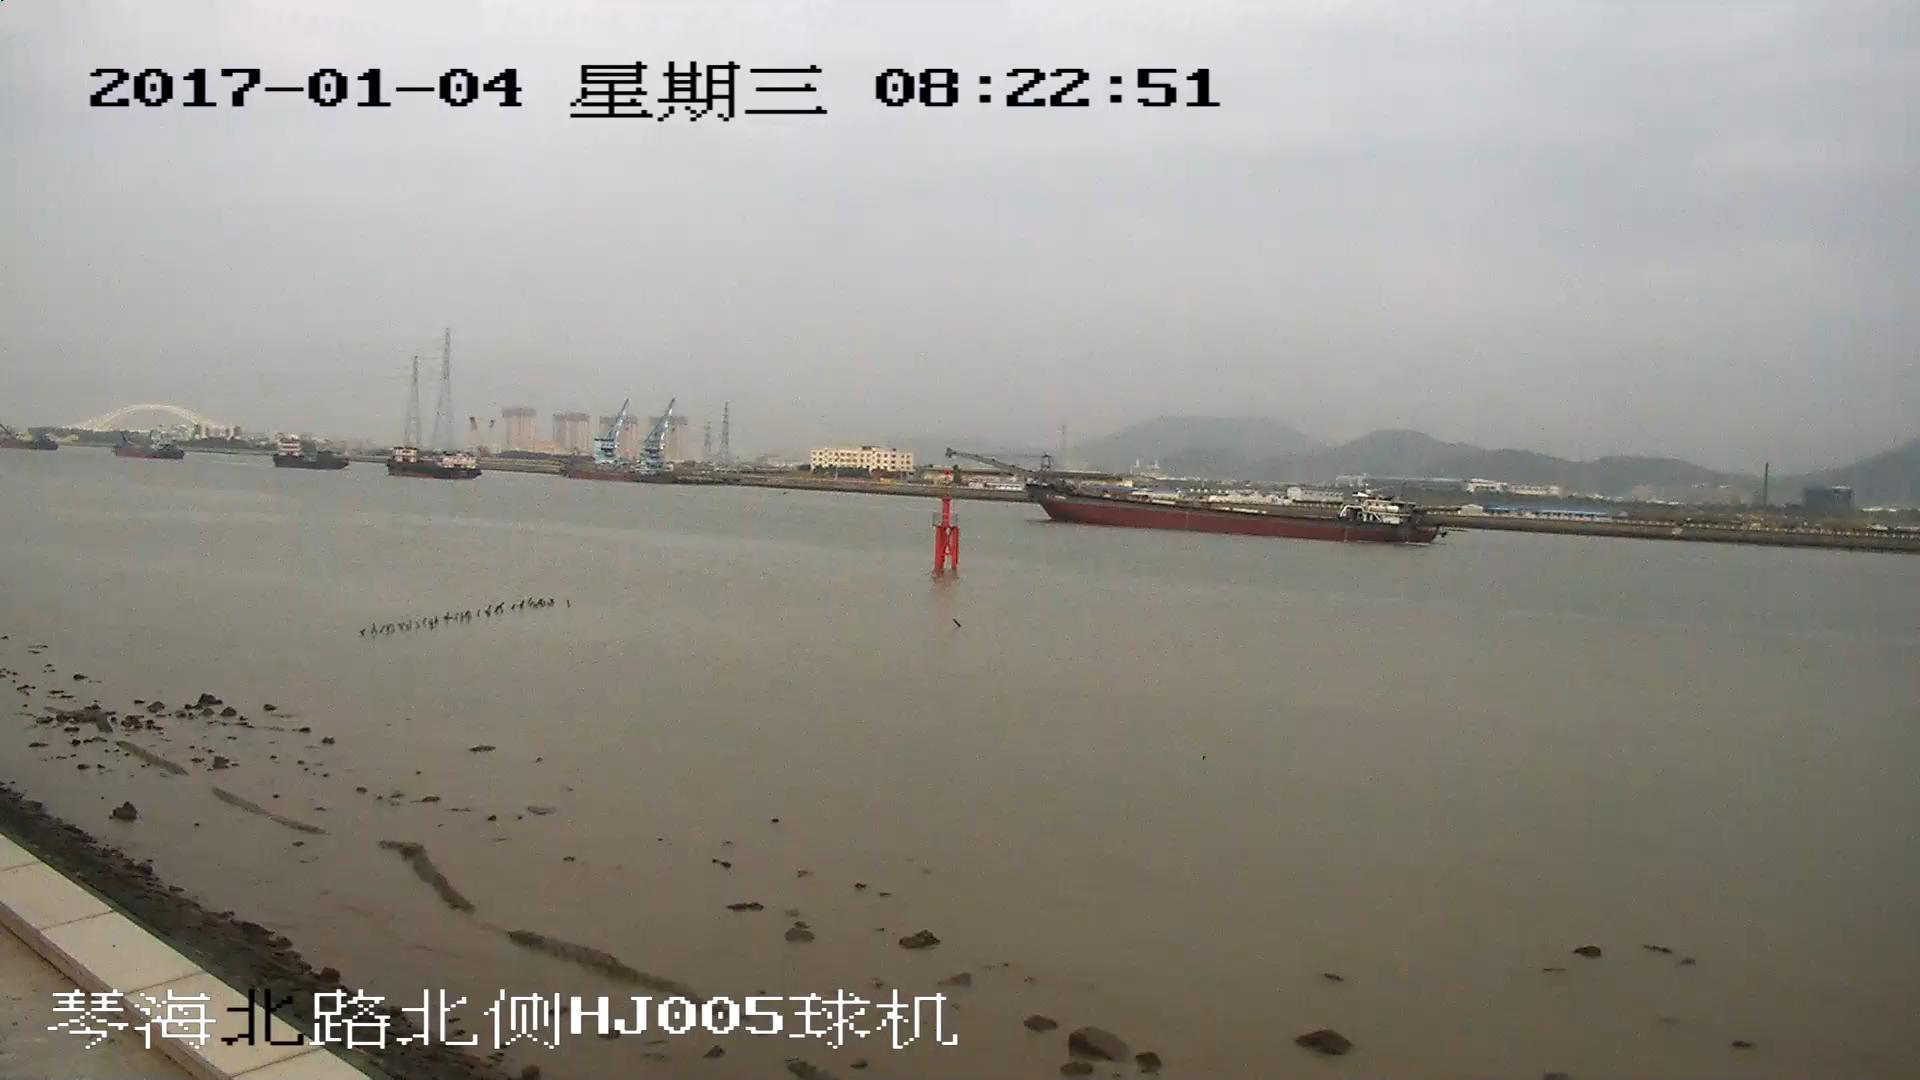bulk cargo carrier: (951, 445, 1441, 542)
